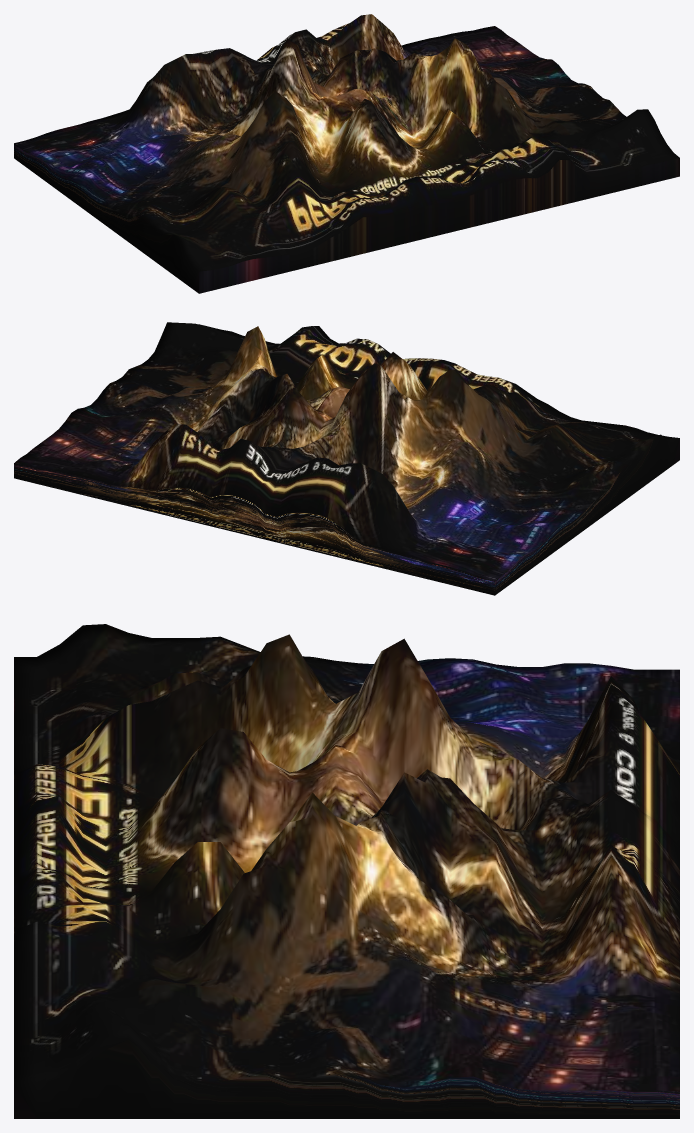
Rendered from CAREER_06_VFX_05_Perfect_Victory.glb.
3 renders of one model, top to bottom at view 1: azimuth 30°, elevation 25°; view 2: azimuth 150°, elevation 25°; view 3: azimuth 270°, elevation 25°, orthographic. The views are drawn at different scales.
Visible parts, largest first — view 1: CAREER_06_VFX_05_Perfect_Victory; view 2: CAREER_06_VFX_05_Perfect_Victory; view 3: CAREER_06_VFX_05_Perfect_Victory.
Part boxes in pixels (x1,y1,x2,y2): CAREER_06_VFX_05_Perfect_Victory: (14,14,679,293); CAREER_06_VFX_05_Perfect_Victory: (14,322,679,595); CAREER_06_VFX_05_Perfect_Victory: (14,624,679,1118).
Size of the model in its own units: 2 by 0.51 by 1.33.
Materials: 1 (1 with a texture image).
